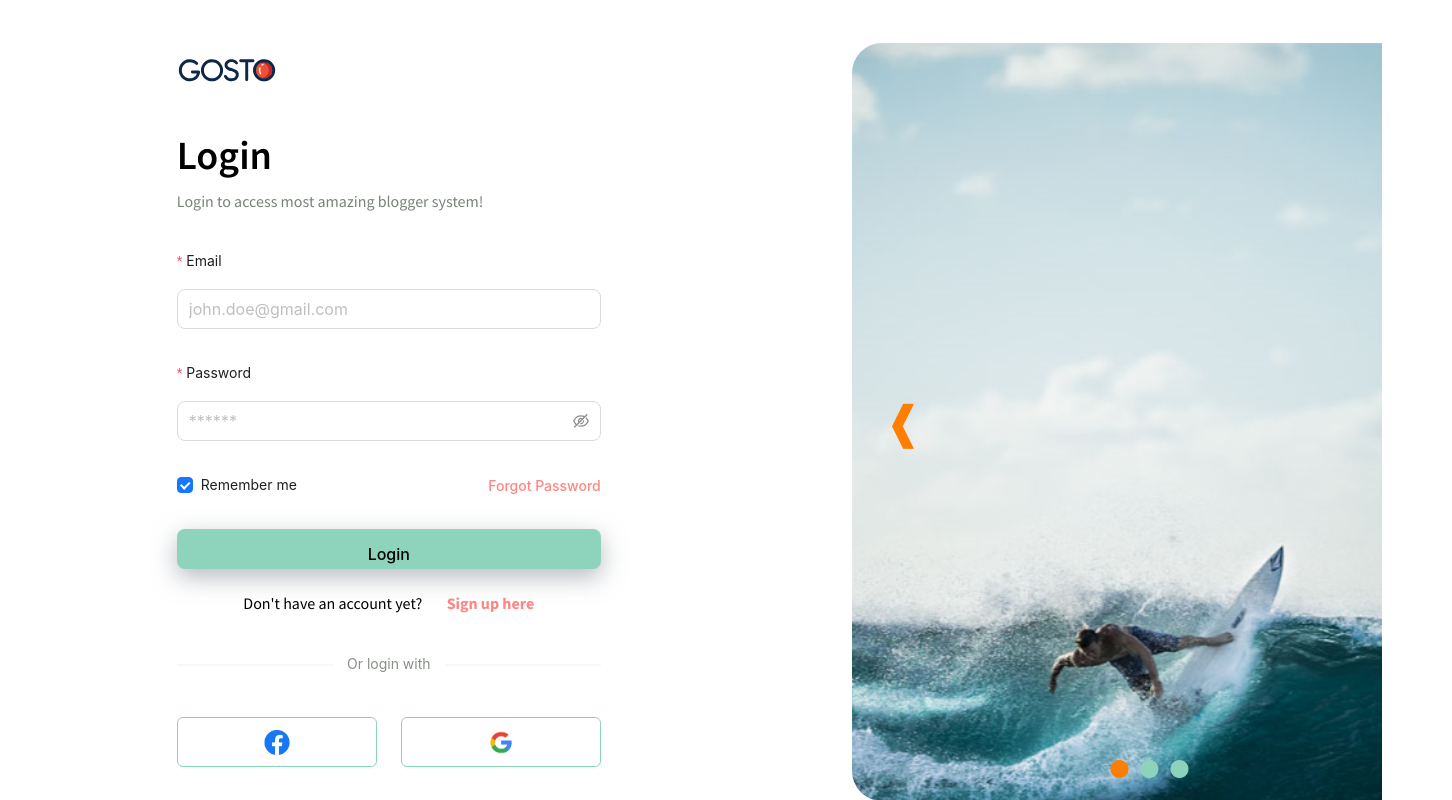
Scenario: Quên mật khẩu › 11. Click vào đường link "Quên mật khẩu"
What coordinates should you click on to do the following:
click the link with id "forgot-password"
I would click on:
 (545, 486)
Its box is [488, 477, 601, 494].
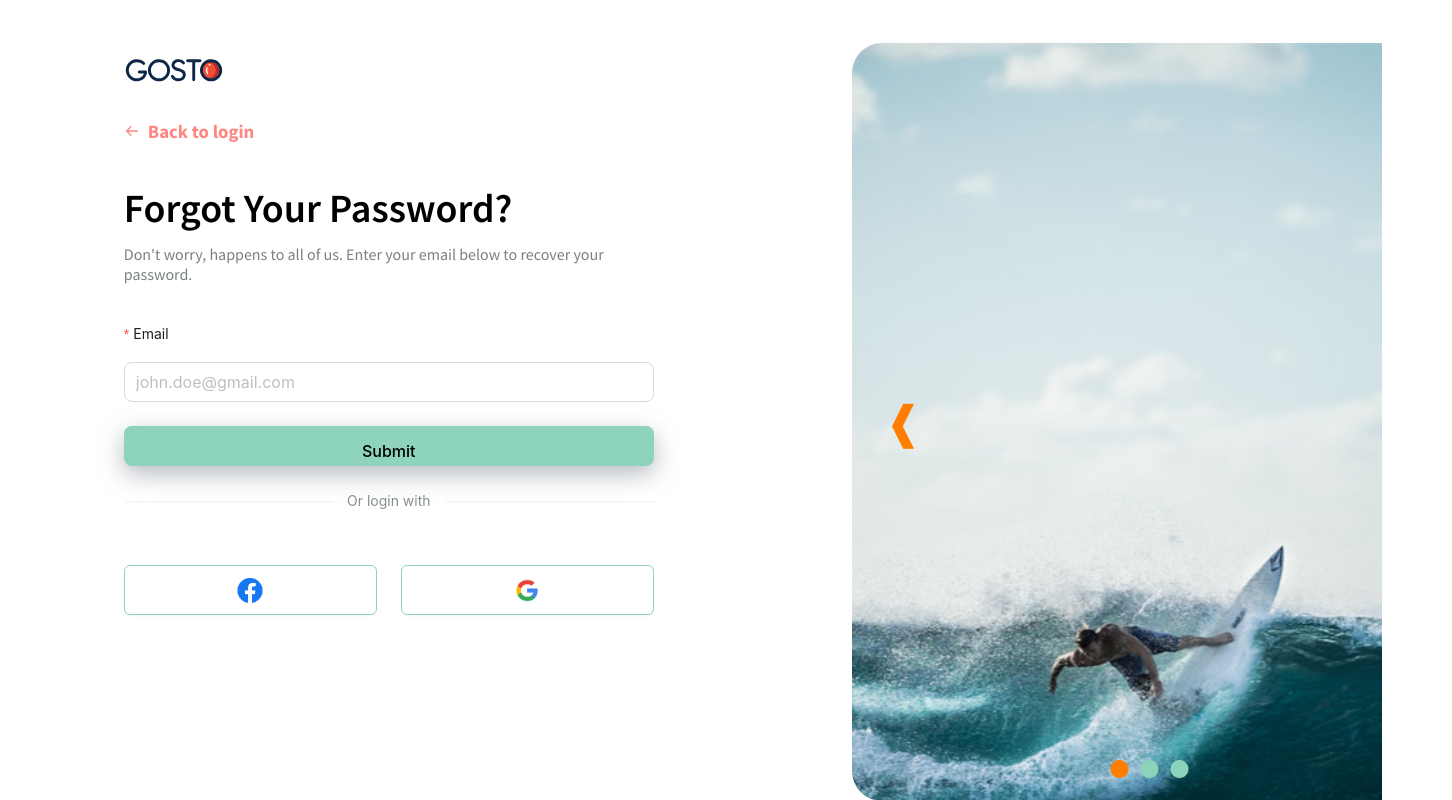
Expected: the link with id "login-link" reads "Back to login", [124, 120, 254, 143]
